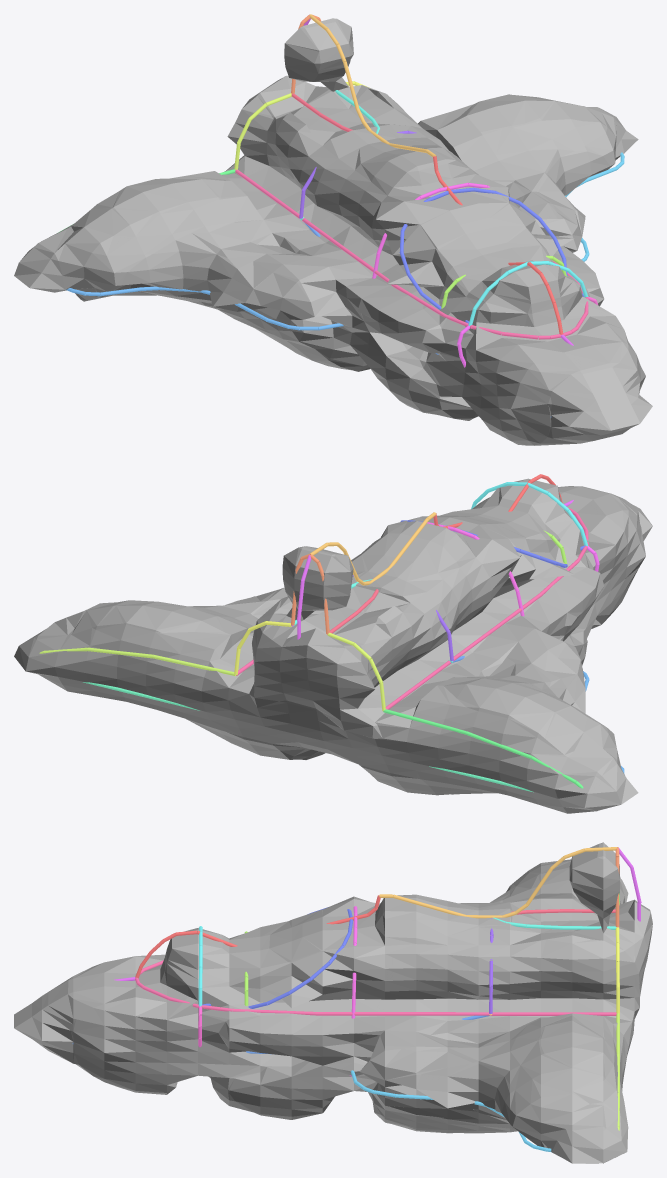
File: t2f_fighter.gltf
3 views of the same model, one above another, from view 1: azimuth 30°, elevation 25°; view 2: azimuth 150°, elevation 25°; view 3: azimuth 270°, elevation 25° (orthographic). The views are drawn at different scales.
Size of the model in its own units: 0.7439 by 0.3057 by 0.706.
